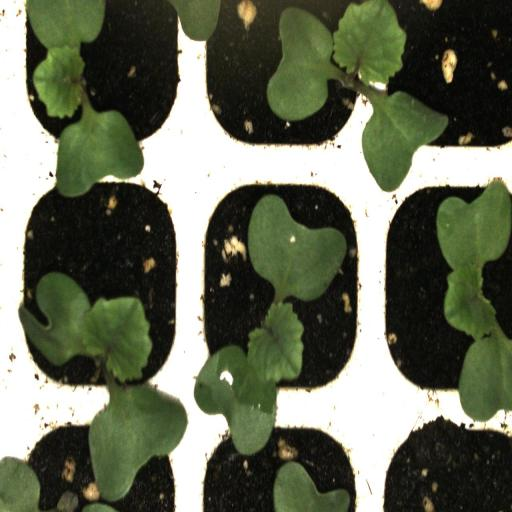Folha: (273, 461, 350, 512), (144, 0, 224, 43)
Germinacao: (10, 162, 192, 416), (191, 164, 374, 414), (375, 165, 512, 419), (192, 2, 376, 165), (11, 0, 190, 162)
